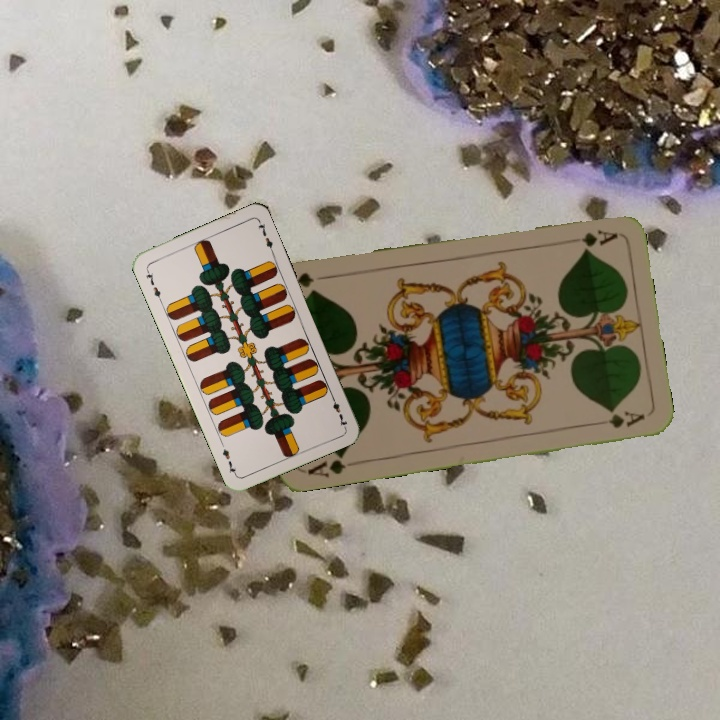E7: (327, 391, 350, 430), (142, 265, 164, 304)
GA: (303, 449, 349, 480), (577, 225, 620, 250)
